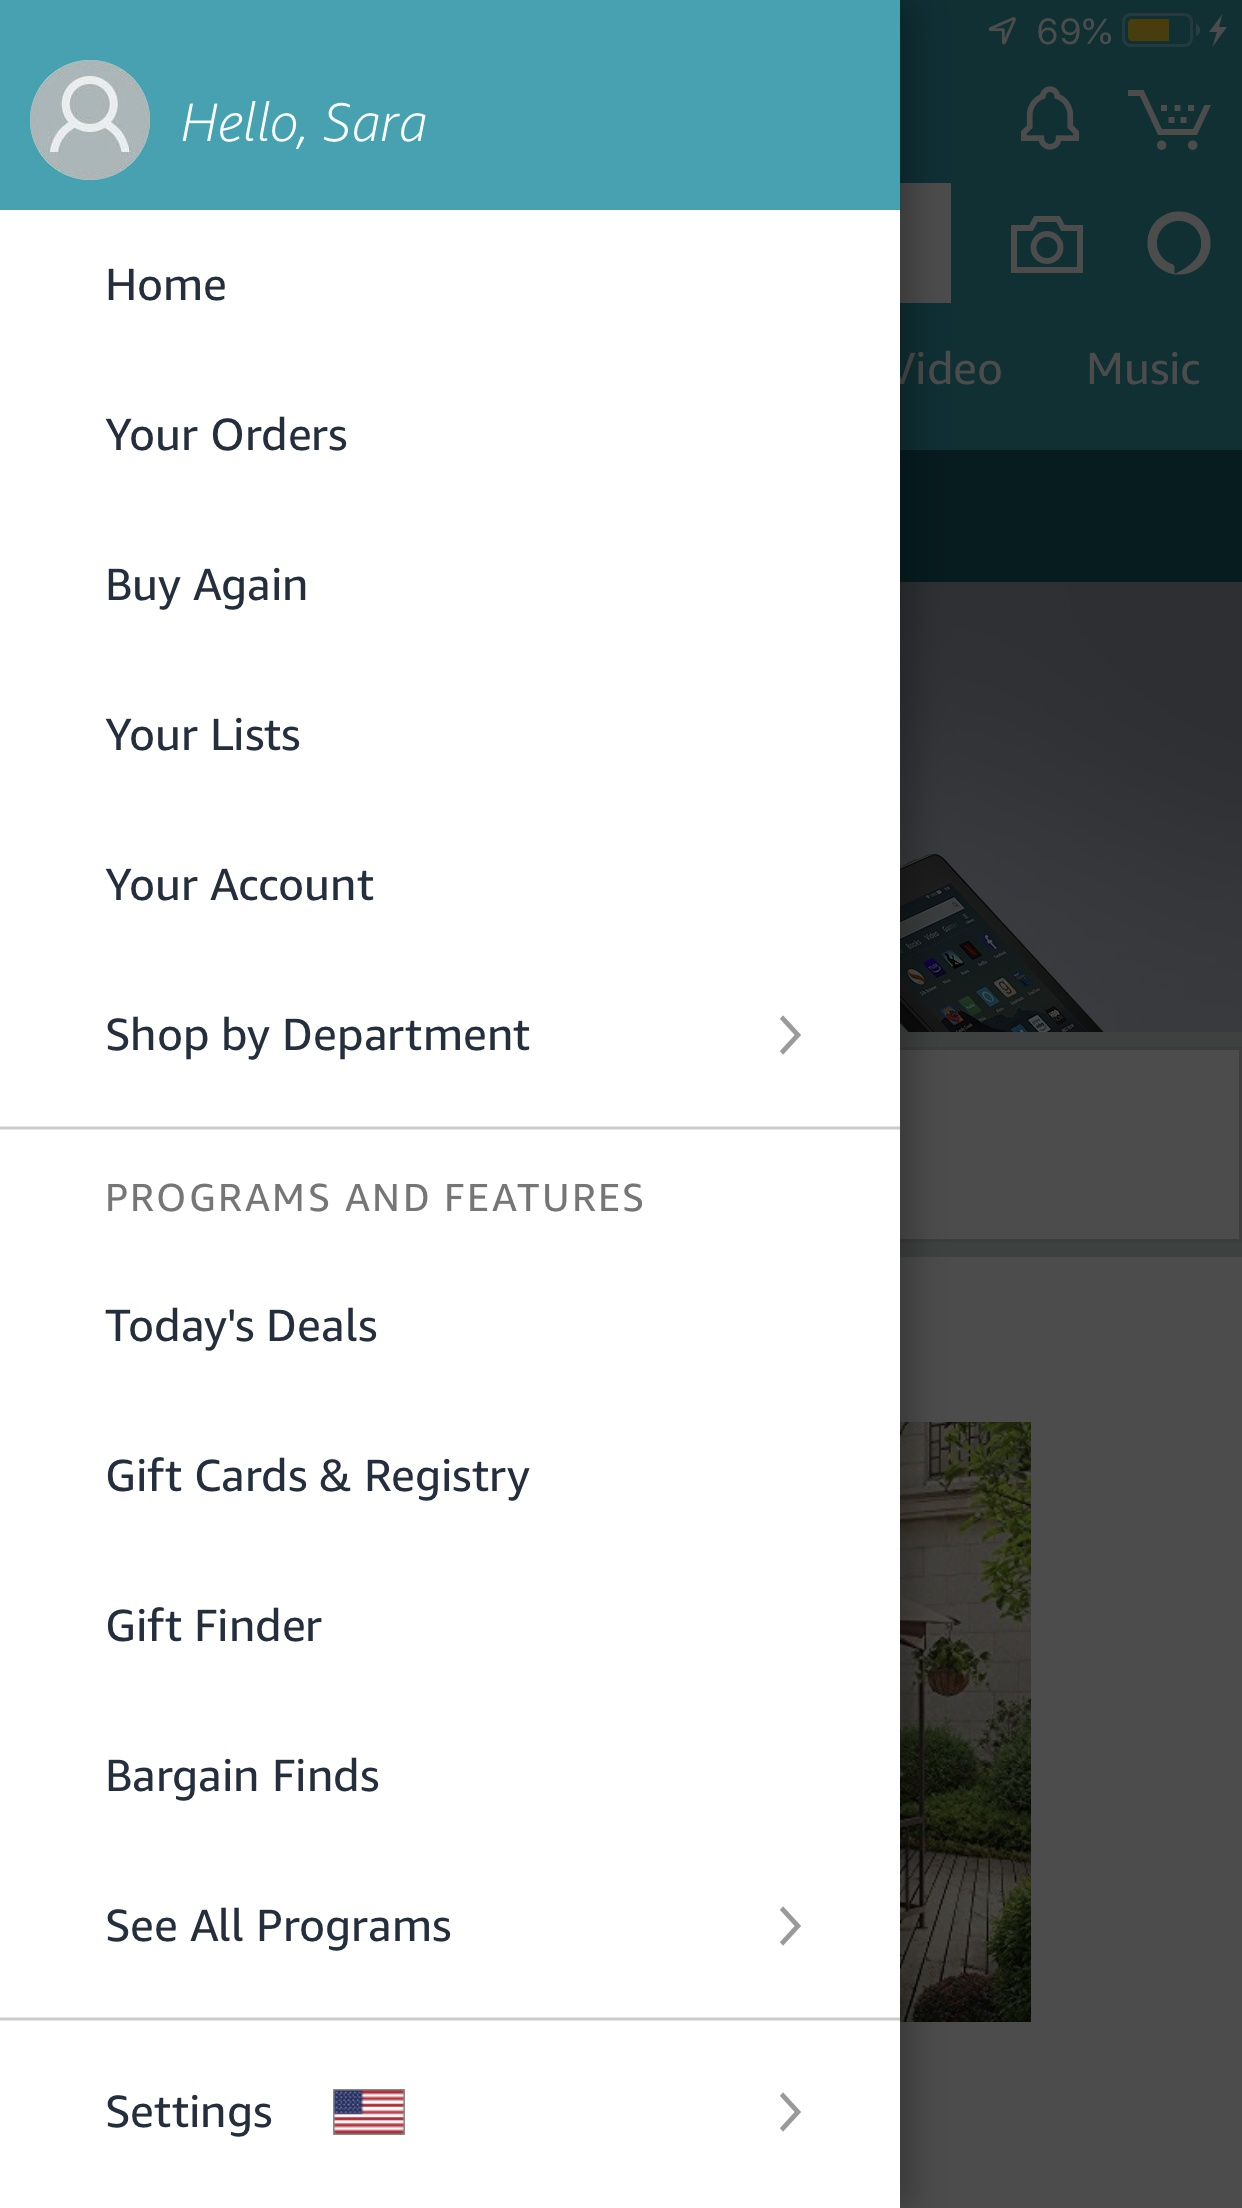Drawer: (2, 2, 899, 2208)
Icon: (30, 61, 152, 182), (779, 2093, 804, 2132), (779, 1906, 802, 1946), (779, 1016, 802, 1055)
Image: (334, 2088, 406, 2137)
Text: (108, 1456, 531, 1501), (108, 1016, 529, 1062), (108, 1183, 643, 1213), (108, 1906, 452, 1952), (106, 1307, 378, 1353), (182, 102, 428, 152), (109, 1758, 381, 1802), (106, 867, 375, 902), (108, 416, 347, 453), (108, 569, 306, 613), (108, 1606, 325, 1642), (108, 2093, 273, 2138), (106, 717, 300, 754), (108, 268, 226, 302)
